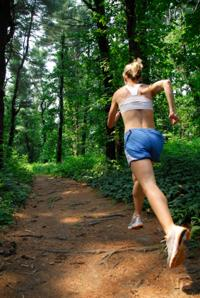person: (107, 58, 190, 266)
